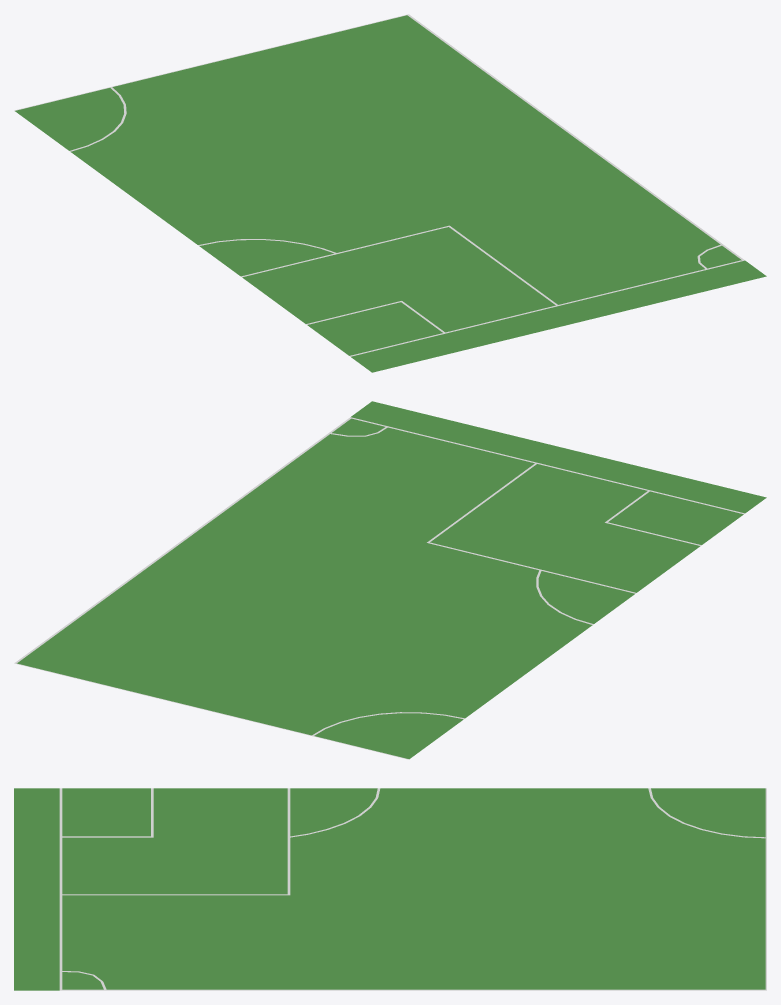
The model's file is M_SoccerField01.fbx.
The picture shows the model from 3 angles, top to bottom: view 1: azimuth 30°, elevation 25°; view 2: azimuth 150°, elevation 25°; view 3: azimuth 270°, elevation 25°; orthographic projection. The views are drawn at different scales.
Visible parts, largest first — view 1: M_SoccerField01; view 2: M_SoccerField01; view 3: M_SoccerField01.
Part boxes in pixels (<box>): M_SoccerField01: <box>14,14,766,372</box>; M_SoccerField01: <box>14,401,766,759</box>; M_SoccerField01: <box>14,788,766,990</box>.
Size of the model in its own units: 3675 by 5775 by 3.77e-20.
